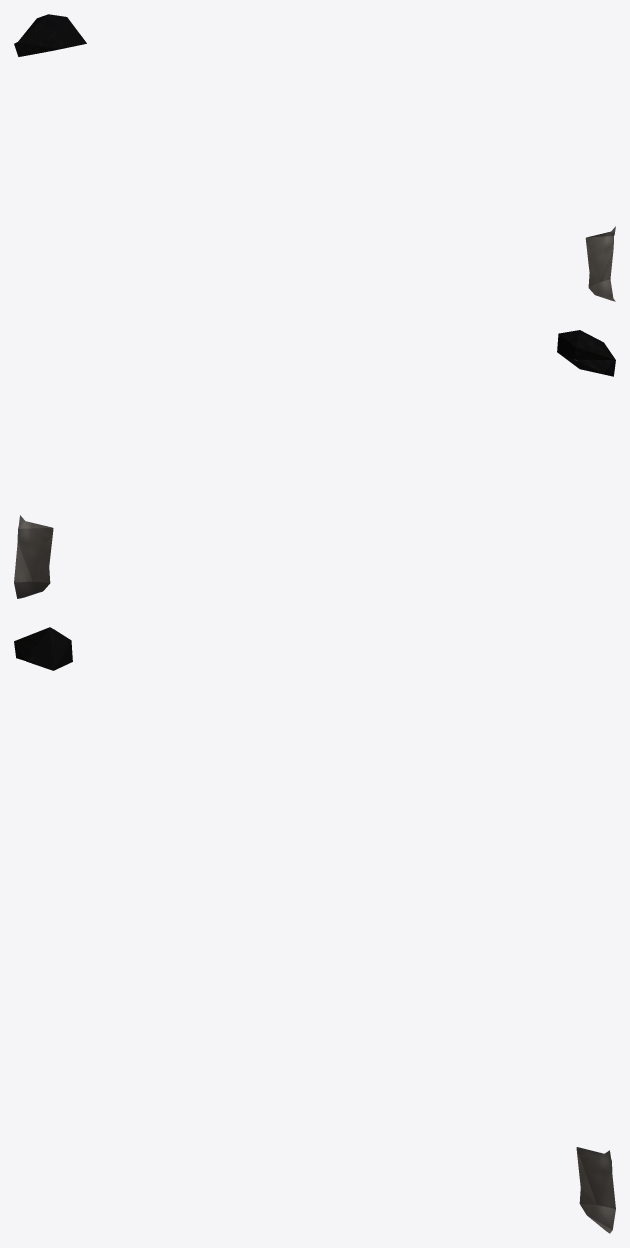
3 renders of one model, top to bottom at view 1: azimuth 30°, elevation 25°; view 2: azimuth 150°, elevation 25°; view 3: azimuth 330°, elevation 25°, orthographic. The views are drawn at different scales.
Size of the model in its own units: 0.5485 by 0.365 by 0.0633.
Materials: 1 (1 with a texture image).
